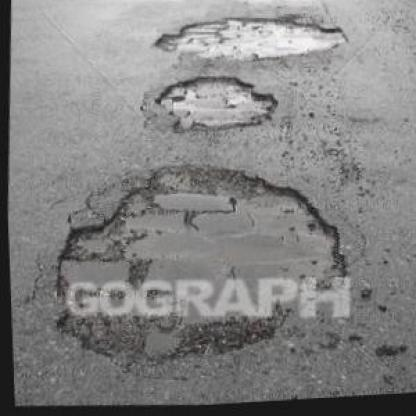pothole: (35, 144, 355, 382), (147, 9, 348, 66), (149, 69, 282, 140)
